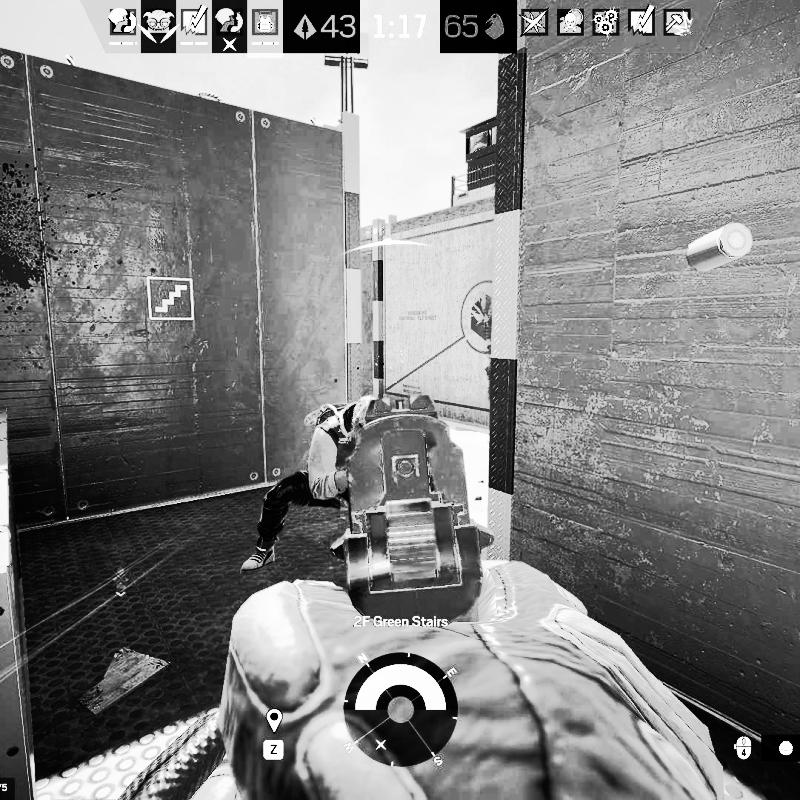Character: (239, 399, 362, 579)
